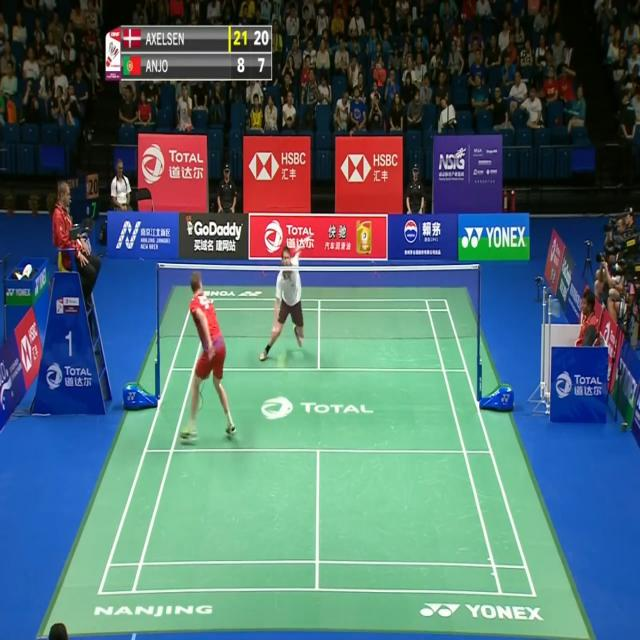Player1: (169, 265, 243, 451)
Player2: (256, 228, 319, 366)
